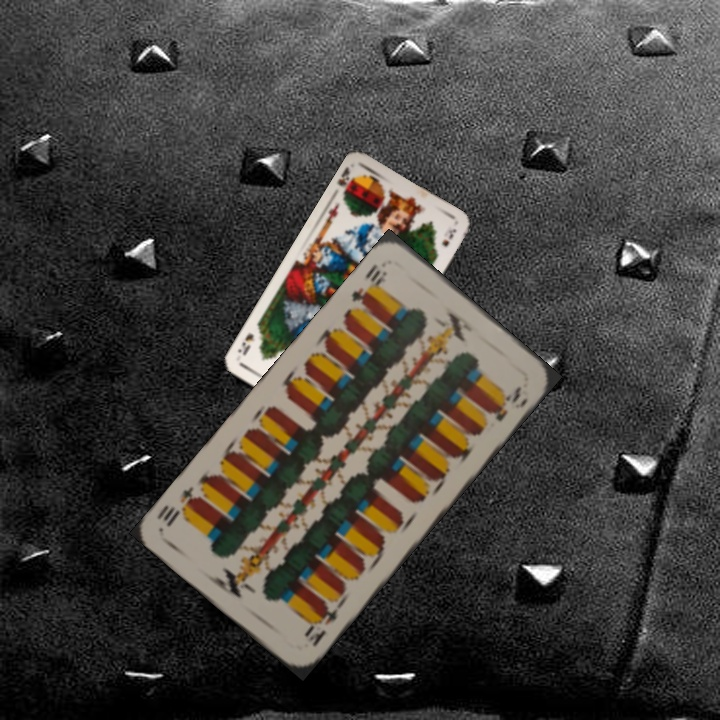E10: (300, 599, 344, 650), (347, 259, 390, 309)
SK: (333, 163, 358, 202)
